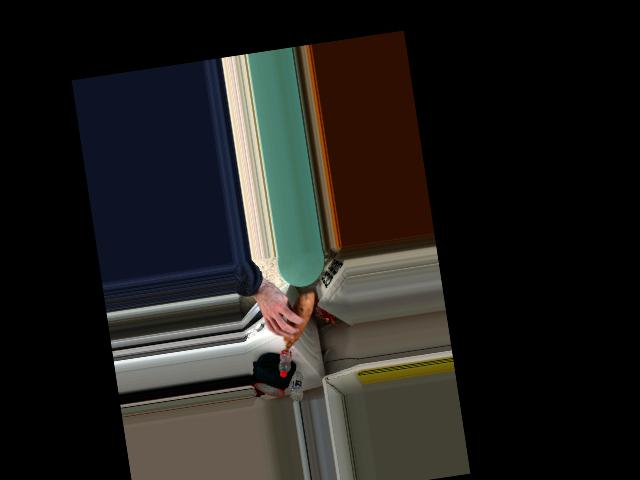sweet_potato: (272, 298, 321, 348)
